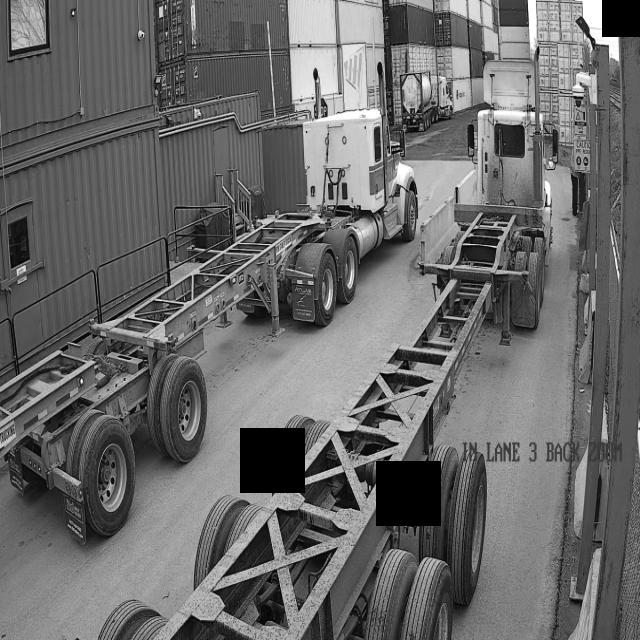truck_without_container: (97, 59, 552, 640), (0, 107, 418, 542)
